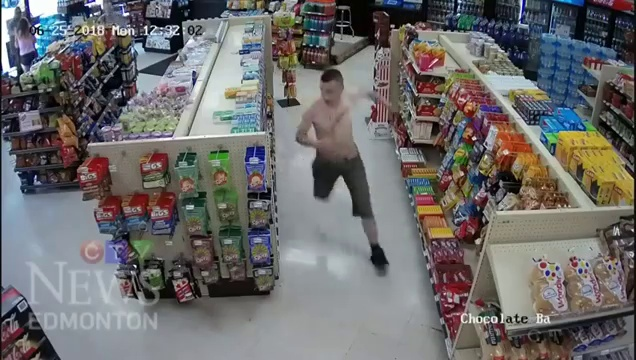face: (317, 78, 338, 107)
